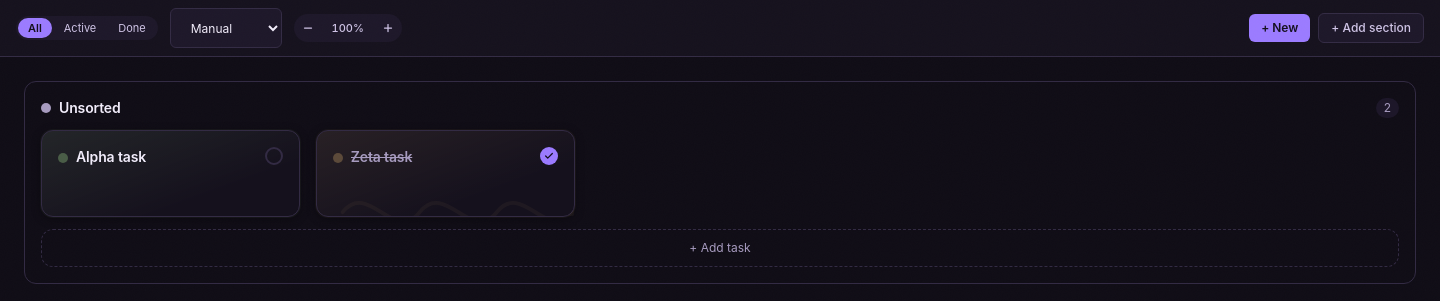
Test: BoardView › filters the board by completion
Expected: the heading "Alpha task" is shown, [76,148,146,165]
Expected: the heading "Zeta task" is shown, [351,148,412,165]
What coordinates should you click on to do the following:
click the button with test id "board-filter-active"
I would click on:
 (80, 28)
Its box is [54,18,106,38].
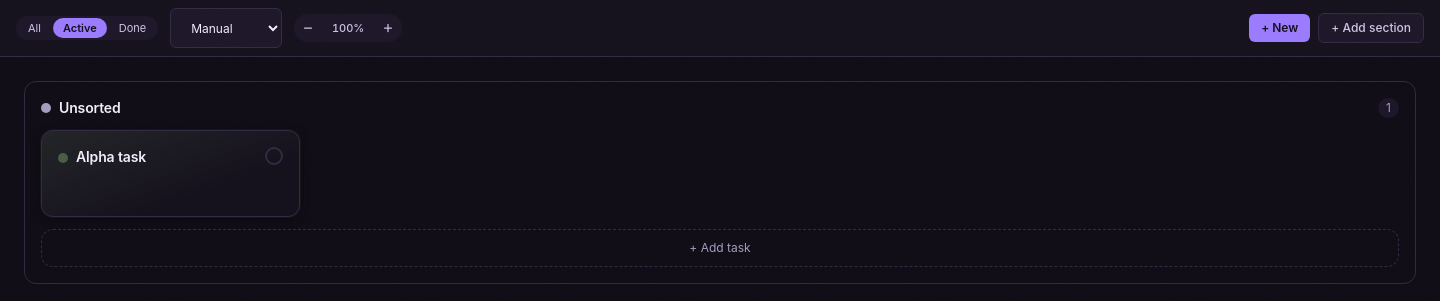
Expected: the heading "Alpha task" is shown, [76,148,146,165]
Expected: the button "Zeta task" is gone
What coordinates should you click on to do the following:
click the button with test id "board-filter-completed"
I would click on:
 (132, 28)
Its box is [109,18,156,38].
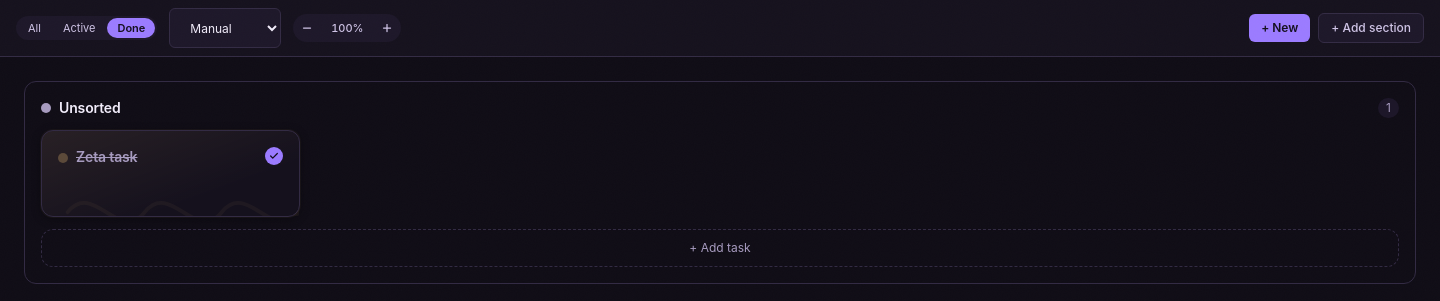
Expected: the button "Alpha task" is gone
Expected: the heading "Zeta task" is shown, [76,148,138,165]
What coordinates should you click on to do the following:
click the button with test id "board-filter-all"
I would click on:
 (34, 28)
Its box is [18,18,51,38].
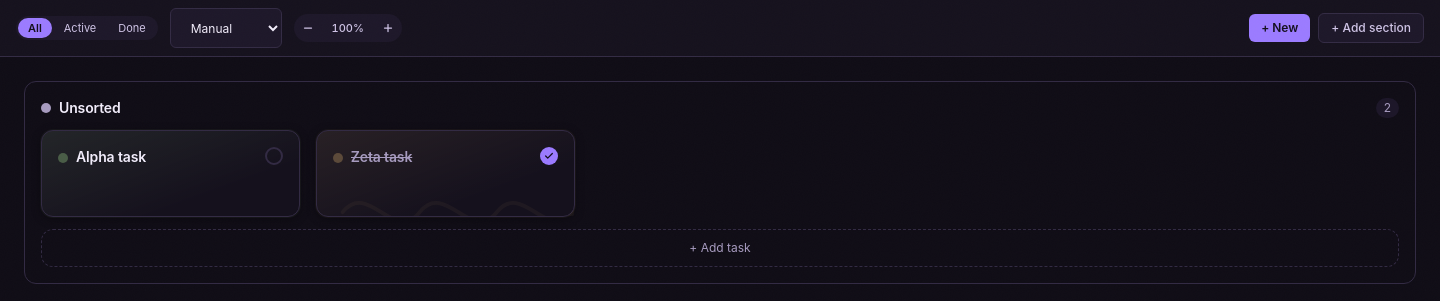
Expected: the heading "Zeta task" is shown, [351,148,412,165]
Expected: the heading "Alpha task" is shown, [76,148,146,165]
